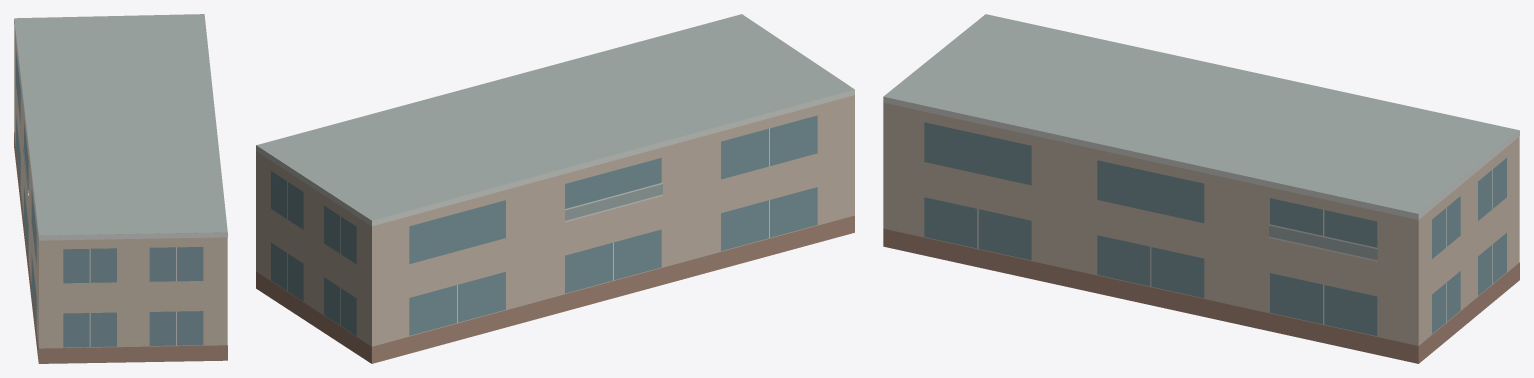
File: survey-upis-32994321.glb
The picture shows the model from 3 angles, left to right: view 1: azimuth 30°, elevation 25°; view 2: azimuth 150°, elevation 25°; view 3: azimuth 270°, elevation 25°; orthographic projection. The views are drawn at different scales.
Visible parts, largest first — view 1: survey-upis-32994321.tmp; view 2: survey-upis-32994321.tmp; view 3: survey-upis-32994321.tmp.
Boxes of the visible parts, x1,y1,x2,y2 form: survey-upis-32994321.tmp: [14, 14, 227, 363]; survey-upis-32994321.tmp: [256, 14, 854, 363]; survey-upis-32994321.tmp: [883, 14, 1519, 363].
Bounding box in the file's own units: 17.47 × 6.1 × 23.49.
